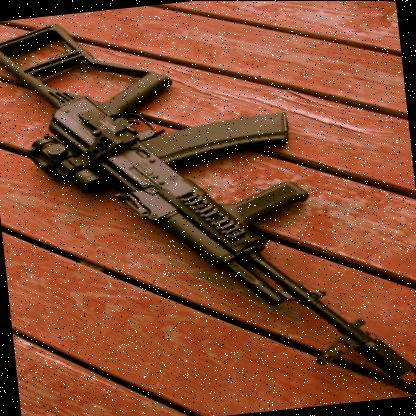rifle: (0, 22, 416, 416)
